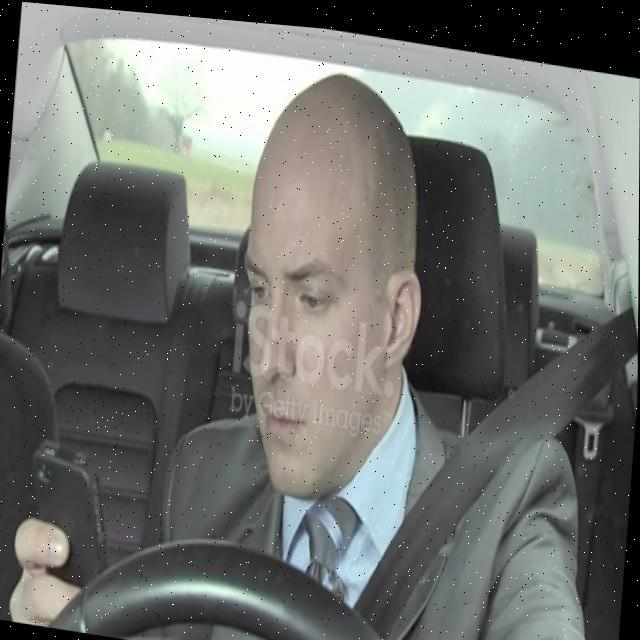PhoneCall: (20, 434, 112, 605)
